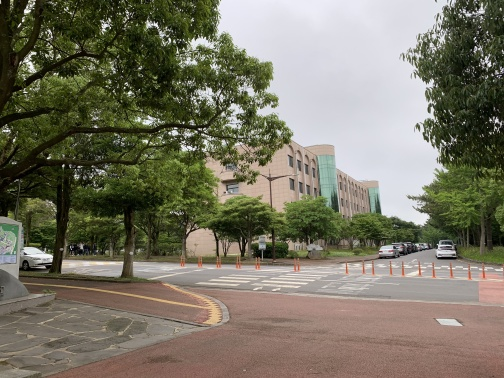Natural Science2: (185, 124, 393, 220)
